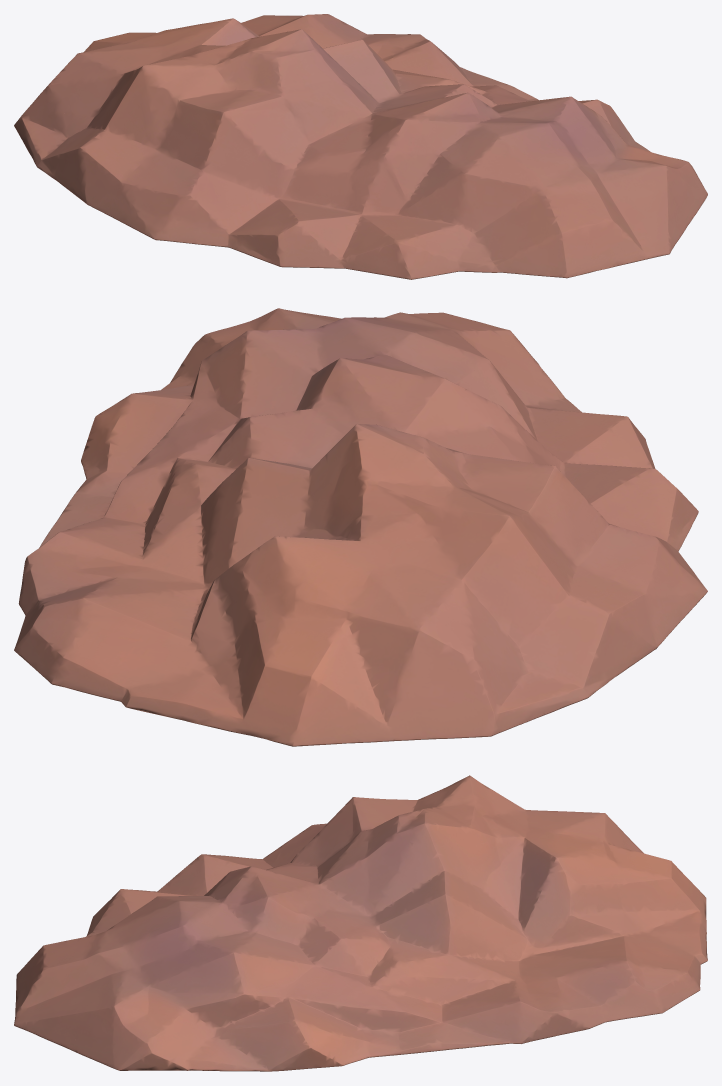
File: low-poly+mountain+3d+model.glb
The picture shows the model from 3 angles, top to bottom: view 1: azimuth 30°, elevation 25°; view 2: azimuth 150°, elevation 25°; view 3: azimuth 270°, elevation 25°; orthographic projection. The views are drawn at different scales.
Visible parts, largest first — view 1: tripo_node_29bf06bb-e3c8-4154-b4fc-a7d4e05574f9; view 2: tripo_node_29bf06bb-e3c8-4154-b4fc-a7d4e05574f9; view 3: tripo_node_29bf06bb-e3c8-4154-b4fc-a7d4e05574f9.
Part boxes in pixels (<box>): tripo_node_29bf06bb-e3c8-4154-b4fc-a7d4e05574f9: <box>14,14,707,279</box>; tripo_node_29bf06bb-e3c8-4154-b4fc-a7d4e05574f9: <box>14,308,707,746</box>; tripo_node_29bf06bb-e3c8-4154-b4fc-a7d4e05574f9: <box>14,775,707,1071</box>.
Size of the model in its own units: 0.8063 by 0.1929 by 1.
1 material, 1 textured.
